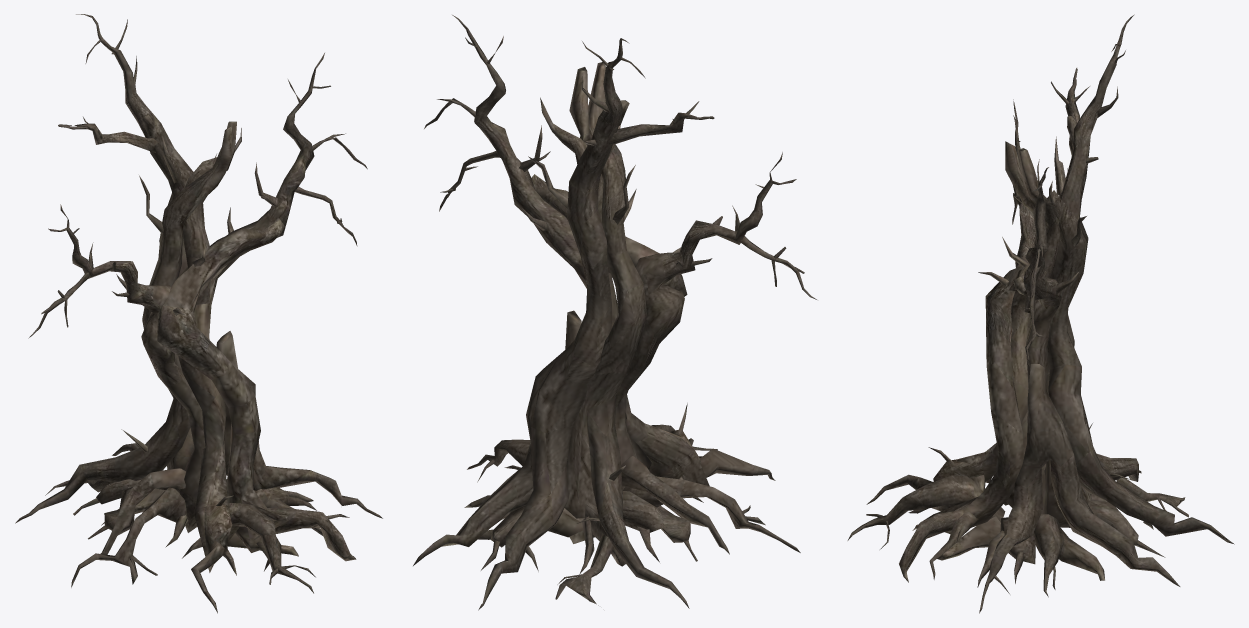
The model's file is h_tree_dead_small.glb.
3 renders of one model, left to right at view 1: azimuth 30°, elevation 25°; view 2: azimuth 150°, elevation 25°; view 3: azimuth 270°, elevation 25°, orthographic. The views are drawn at different scales.
Visible parts, largest first — view 1: h_tree_dead_small; view 2: h_tree_dead_small; view 3: h_tree_dead_small.
Part boxes in pixels (bbox=[...]): h_tree_dead_small: bbox=[15, 14, 382, 613]; h_tree_dead_small: bbox=[413, 15, 816, 610]; h_tree_dead_small: bbox=[847, 14, 1234, 613].
Bounding box in the file's own units: 2.18 × 2.99 × 2.14.
1 material, 1 textured.
